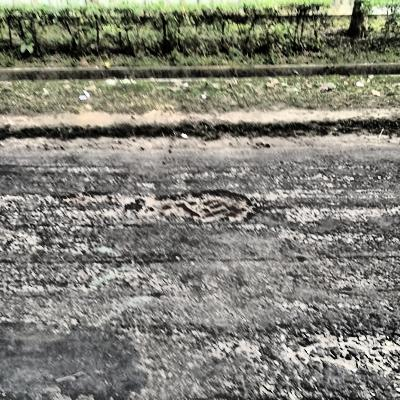pothole: (134, 188, 256, 227)
